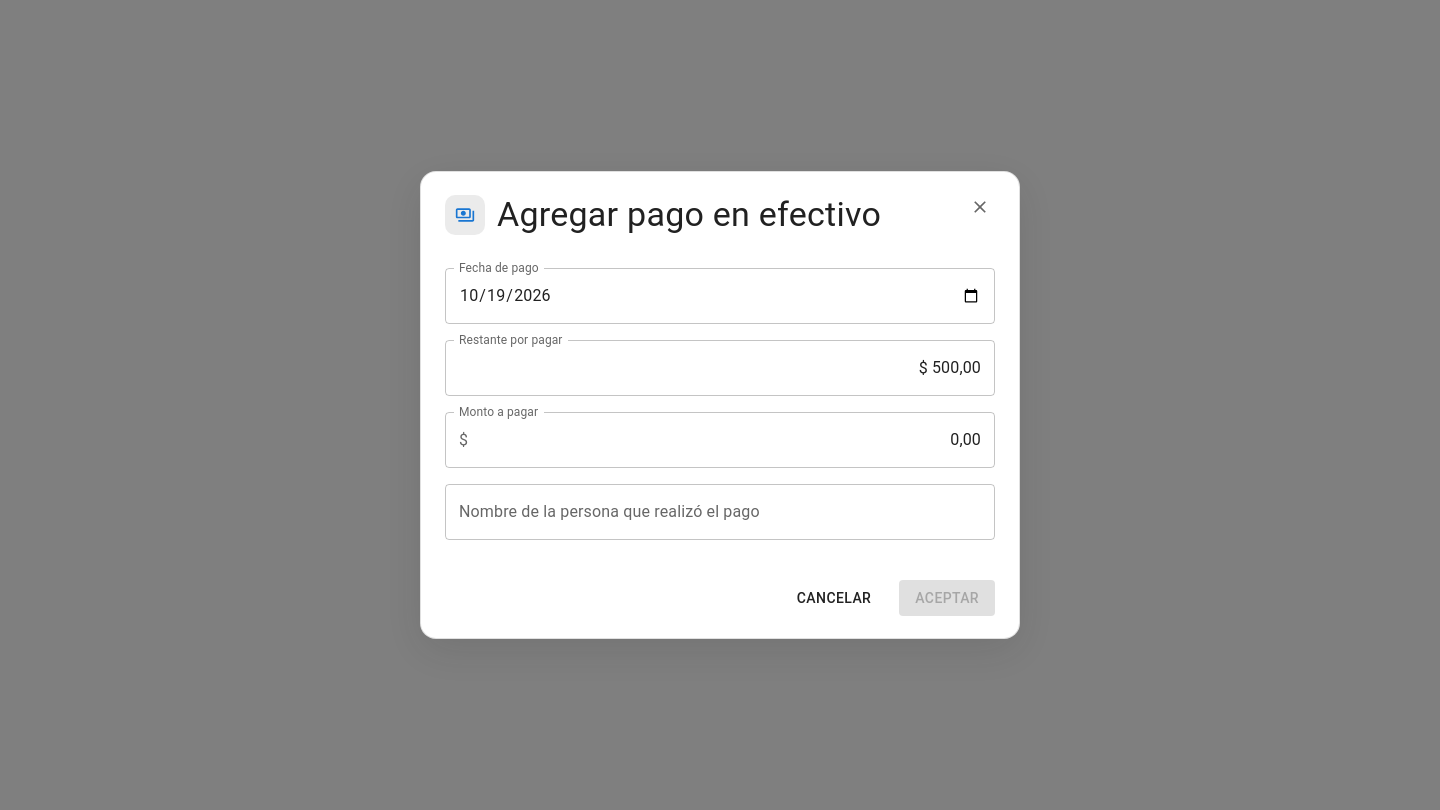
Test: CashPaymentDialog › given confirmation shown, when clicking Cancelar in alert, then hides alert
The image size is (1440, 810).
Click the field labelled "Restante por pagar": point(720, 368) [445,340,995,396]
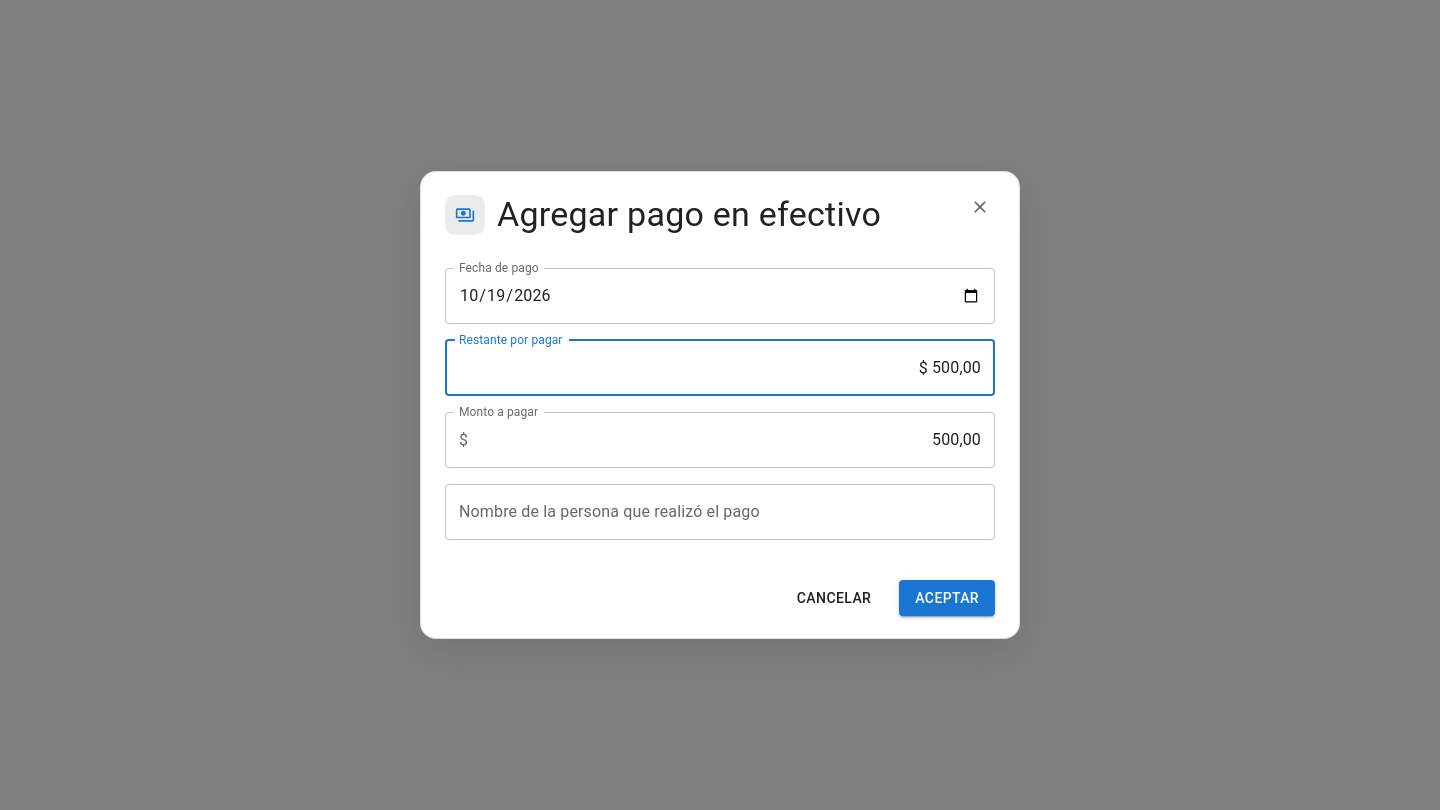
Click the button "Aceptar": point(947, 598) [899,580,995,616]
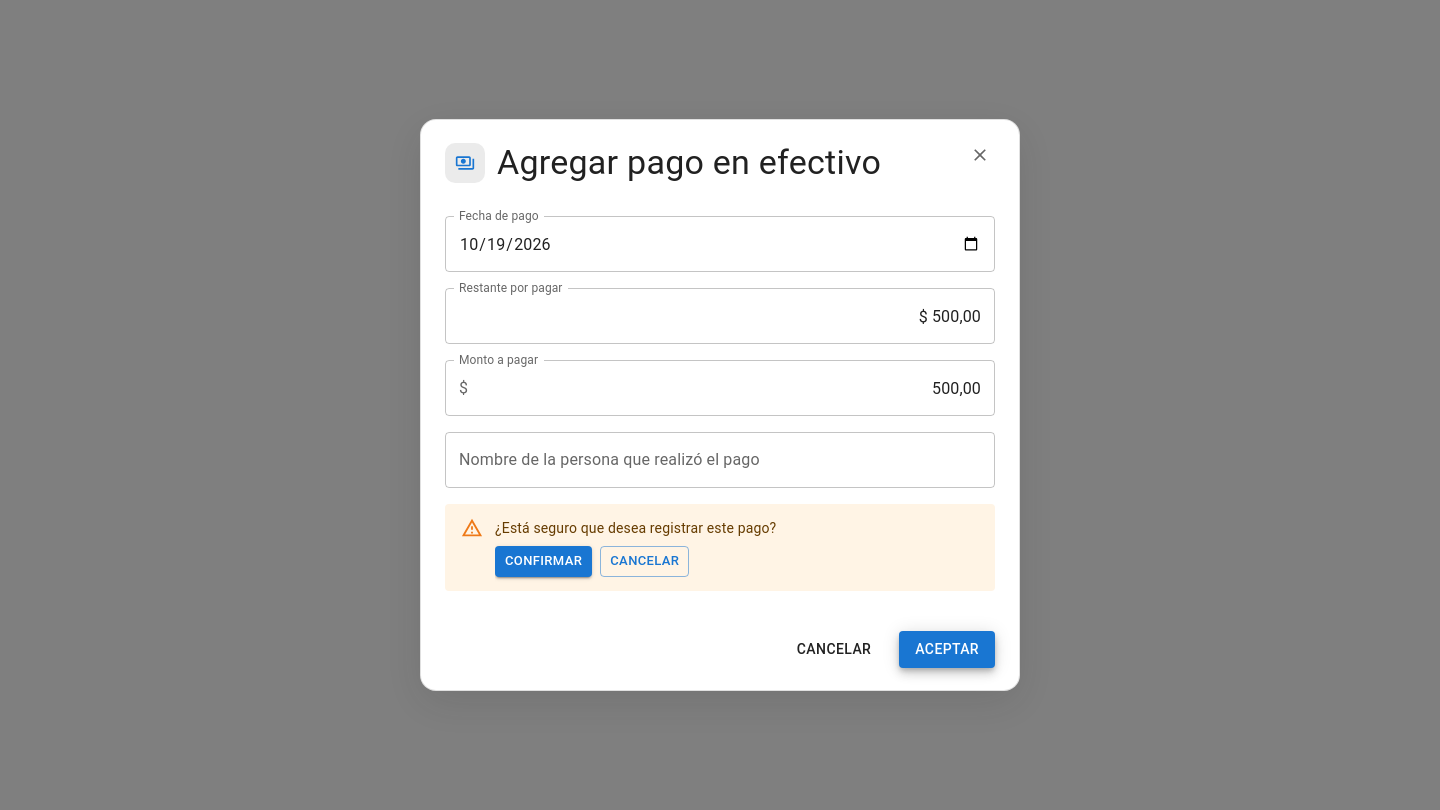
Expected: the text "¿Está seguro que desea registrar este pago?" is shown, [495,510,776,585]
Click the button "Cancelar" below "¿Está seguro que desea": point(645, 562) [600,546,689,577]
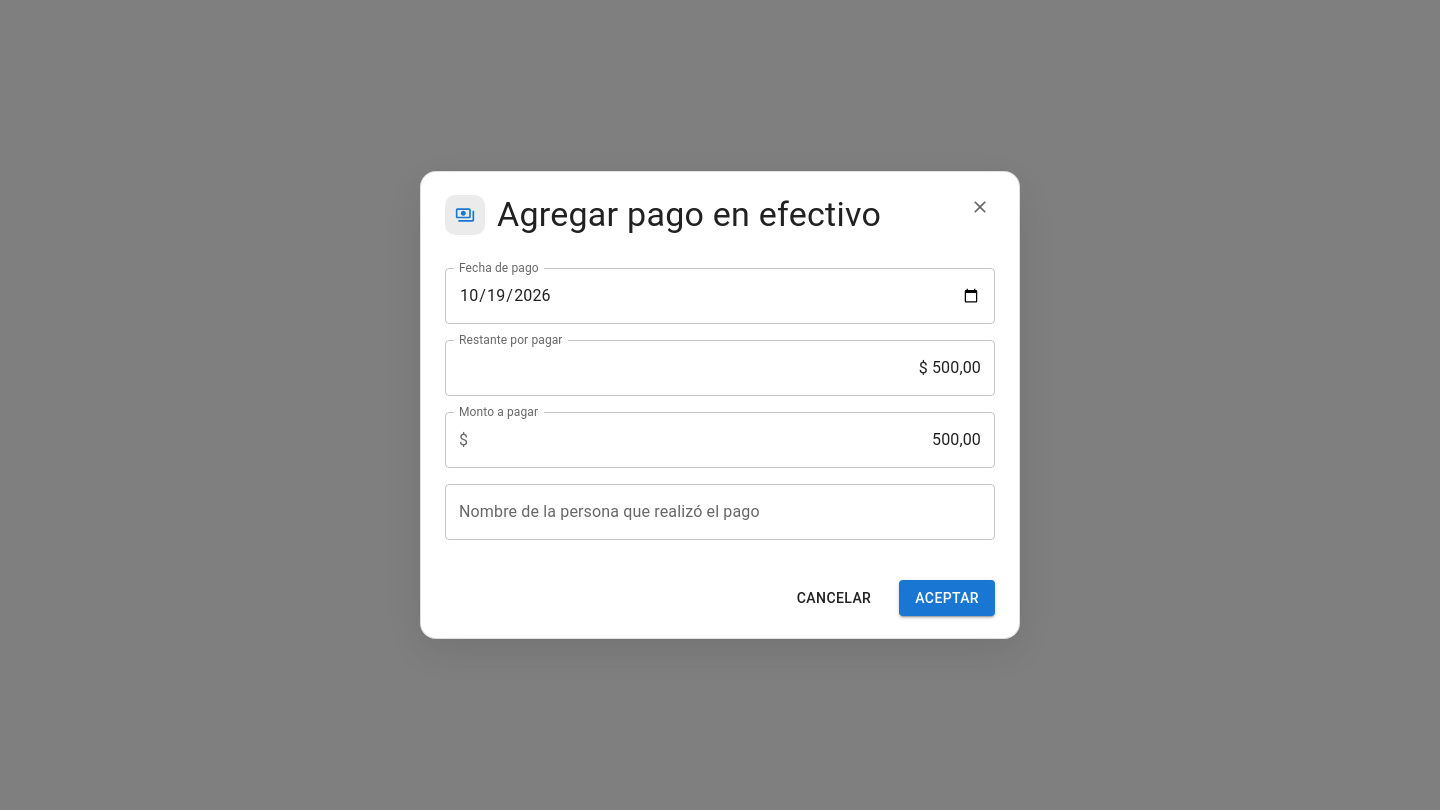
Expected: the text "¿Está seguro que desea registrar este pago?" is gone
